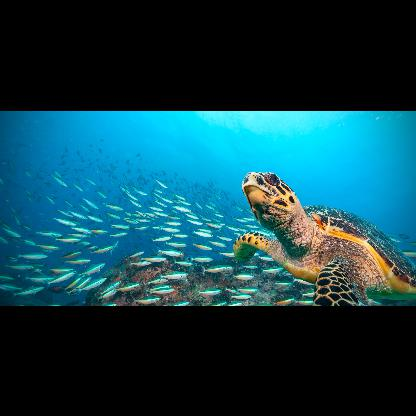turtle: (235, 170, 416, 304)
